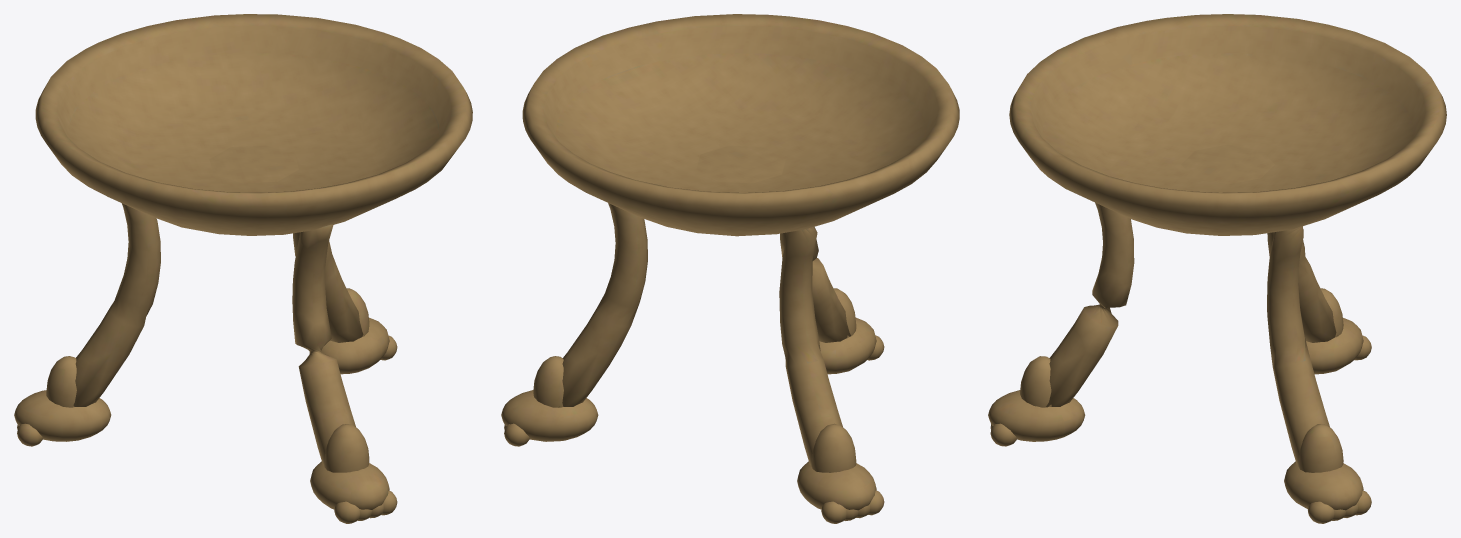
File: bronze_brazier.glb
The picture shows the model from 3 angles, left to right: view 1: azimuth 30°, elevation 25°; view 2: azimuth 150°, elevation 25°; view 3: azimuth 270°, elevation 25°; orthographic projection.
Parts seen in each view (by area): view 1: 15 Bronze Brazier; view 2: 15 Bronze Brazier; view 3: 15 Bronze Brazier.
Boxes of the visible parts, x1=… form: 15 Bronze Brazier: x1=14, y1=14, x2=472, y2=523; 15 Bronze Brazier: x1=501, y1=14, x2=959, y2=523; 15 Bronze Brazier: x1=988, y1=14, x2=1446, y2=523.
Size of the model in its own units: 1.44 by 1.21 by 1.51.
2 materials, 2 textured.
